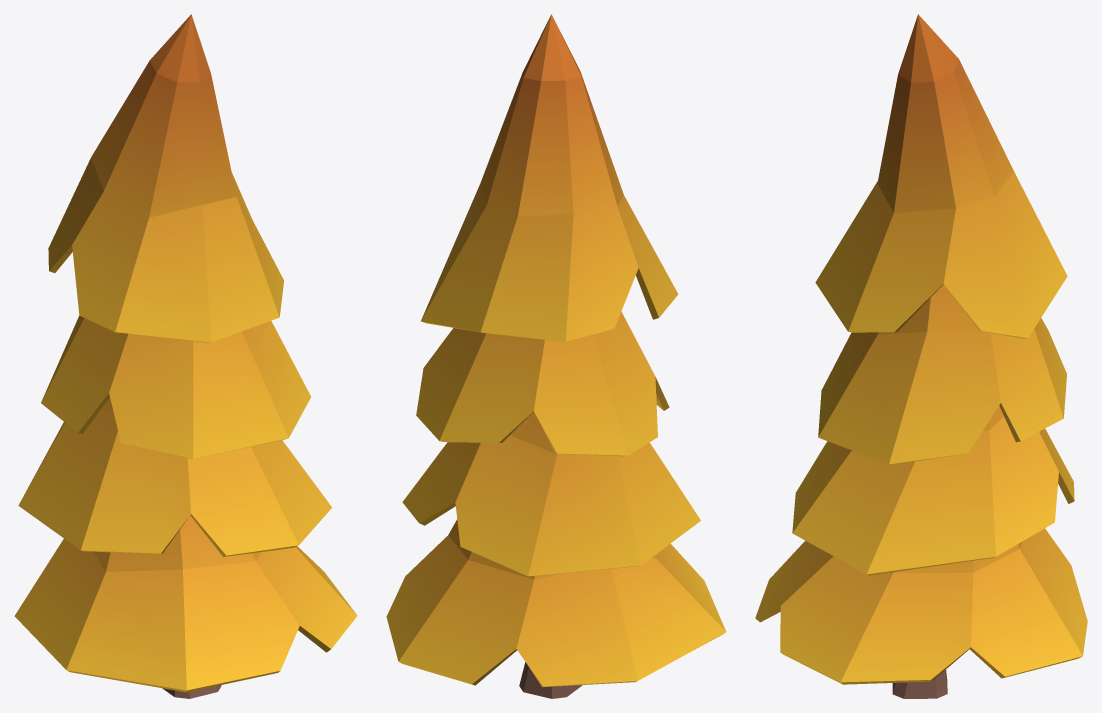
Rendered from AutumnPine6.fbx.
3 views of the same model, side by side, from view 1: azimuth 30°, elevation 25°; view 2: azimuth 150°, elevation 25°; view 3: azimuth 270°, elevation 25° (orthographic).
Parts seen in each view (by area): view 1: AutumnPine6; view 2: AutumnPine6; view 3: AutumnPine6.
Boxes of the visible parts, bbox=[...] form: AutumnPine6: bbox=[14, 14, 357, 698]; AutumnPine6: bbox=[386, 14, 726, 698]; AutumnPine6: bbox=[755, 14, 1087, 698].
Size of the model in its own units: 499 by 1107 by 495.
